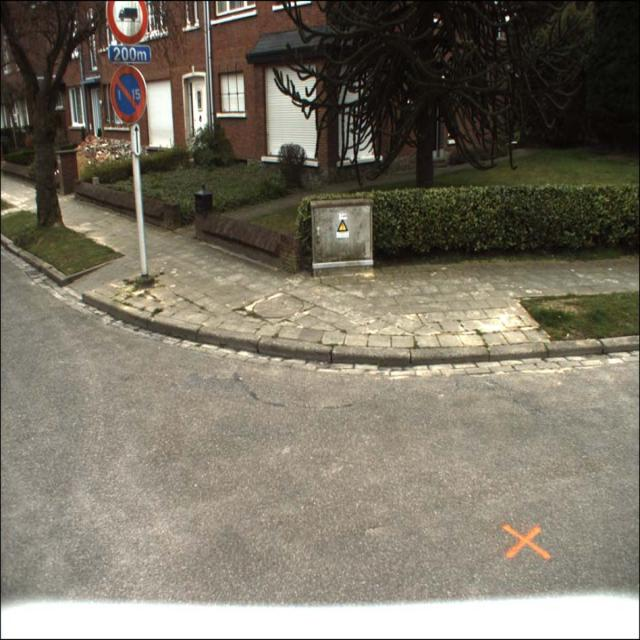parkyasak: (110, 65, 149, 122)
